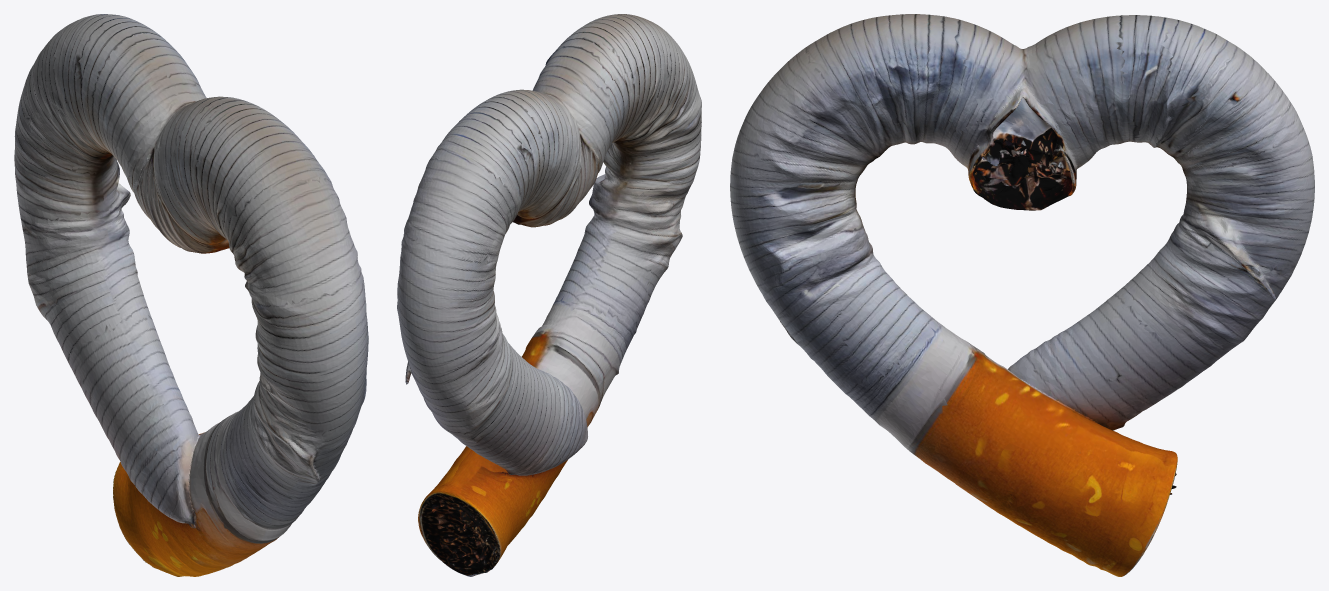
Rendered from kippe.glb.
3 views of the same model, side by side, from view 1: azimuth 30°, elevation 25°; view 2: azimuth 150°, elevation 25°; view 3: azimuth 270°, elevation 25° (orthographic). The views are drawn at different scales.
Parts seen in each view (by area): view 1: tripo_node_26661c08-44ed-4660-9b10-0f01250701a1; view 2: tripo_node_26661c08-44ed-4660-9b10-0f01250701a1; view 3: tripo_node_26661c08-44ed-4660-9b10-0f01250701a1.
Part boxes in pixels (x1,y1,x2,y2): tripo_node_26661c08-44ed-4660-9b10-0f01250701a1: (14, 14, 368, 576); tripo_node_26661c08-44ed-4660-9b10-0f01250701a1: (397, 14, 701, 576); tripo_node_26661c08-44ed-4660-9b10-0f01250701a1: (730, 14, 1314, 576).
Bounding box in the file's own units: 2.53 × 10.55 × 10.43.
Materials: 1 (1 with a texture image).
